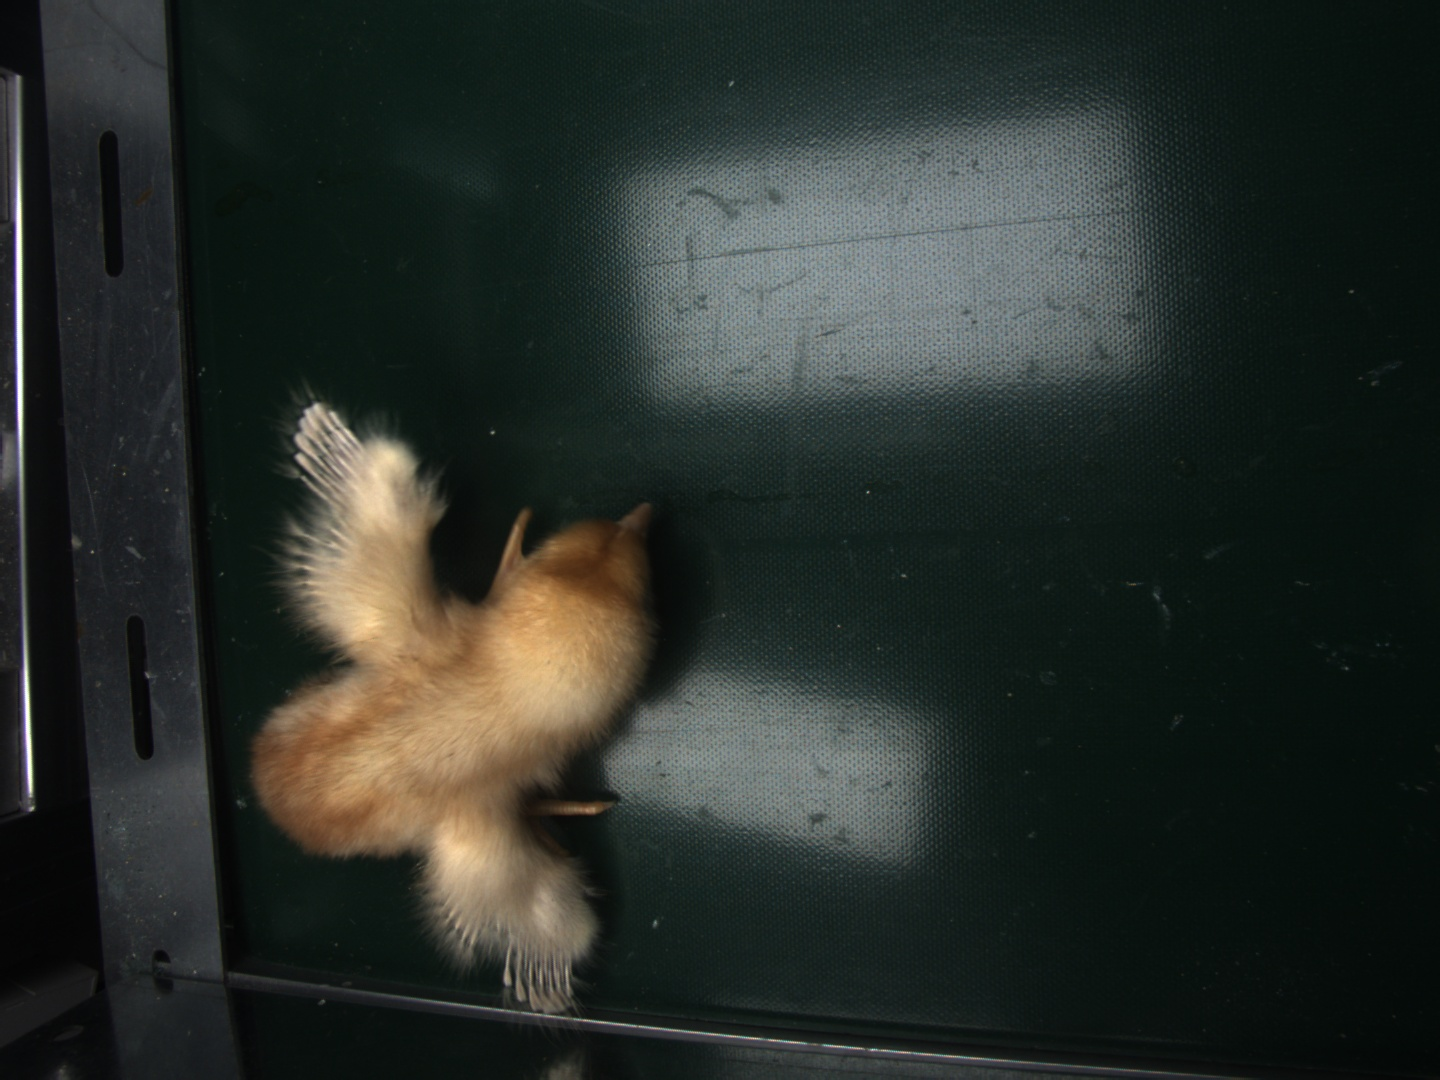female: (506, 950, 576, 1015)
